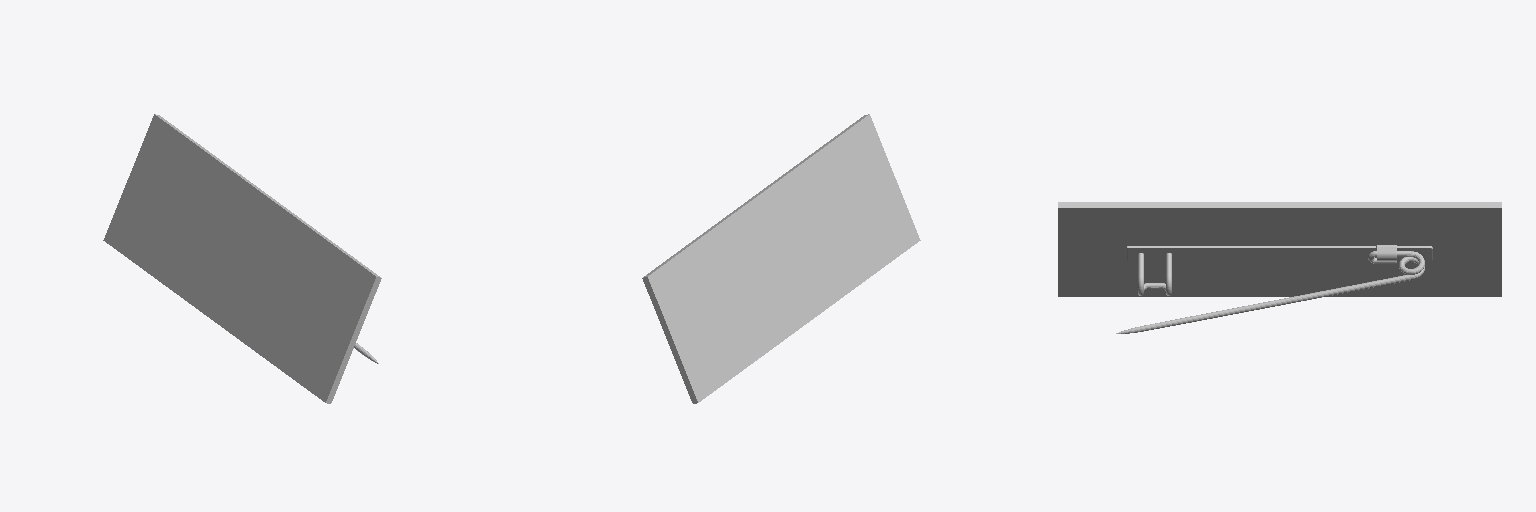
Rendered from nametag.obj.
The picture shows the model from 3 angles: view 1: azimuth 30°, elevation 25°; view 2: azimuth 150°, elevation 25°; view 3: azimuth 270°, elevation 25°; orthographic projection.
Parts seen in each view (by area): view 1: Tag_Plane; view 2: Tag_Plane; view 3: Tag_Plane, Base_Circle, Pin_Circle.001.
Part boxes in pixels (left/top/right/bottom): Tag_Plane: left=103, top=114, right=381, bottom=403; Tag_Plane: left=642, top=114, right=920, bottom=403; Tag_Plane: left=1058, top=202, right=1501, bottom=296; Base_Circle: left=1127, top=245, right=1432, bottom=295; Pin_Circle.001: left=1116, top=251, right=1424, bottom=333.
Bounding box in the file's own units: 1.38 × 1.85 × 6.4.